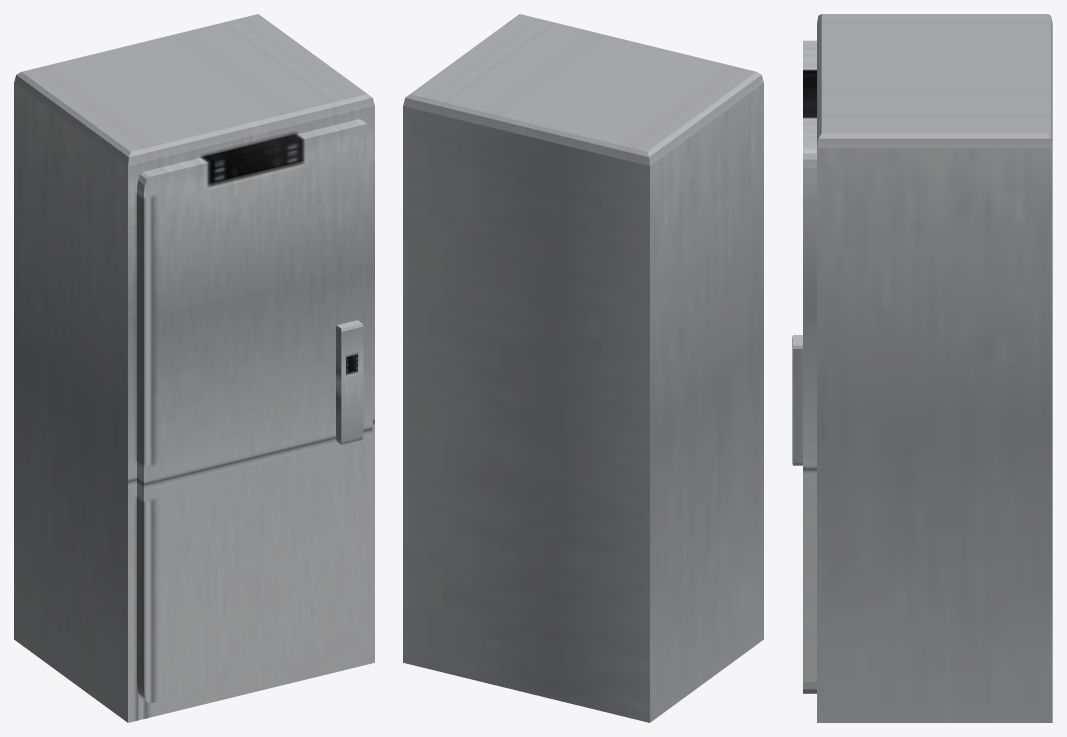
File: fridgemodellol.fbx
The picture shows the model from 3 angles, left to right: view 1: azimuth 30°, elevation 25°; view 2: azimuth 150°, elevation 25°; view 3: azimuth 270°, elevation 25°; orthographic projection. The views are drawn at different scales.
Parts seen in each view (by area): view 1: Cube, Cube.001; view 2: Cube; view 3: Cube, Cube.001.
Boxes of the visible parts, x1,y1,x2,y2 form: Cube: (14,14,374,722); Cube.001: (336,320,363,444); Cube: (403,14,763,722); Cube: (803,14,1052,722); Cube.001: (792,335,802,465).
Bounding box in the file's own units: 250 × 550 × 221.
Materials: 2 (2 with a texture image).
